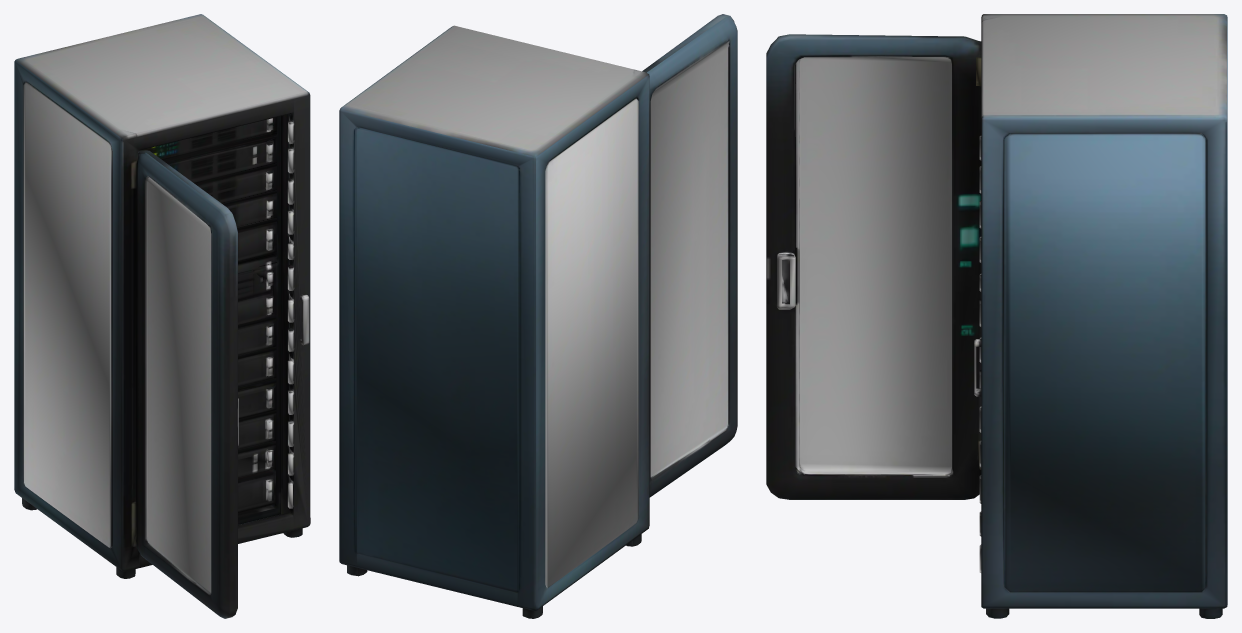
File: server_rack_03b09d1f_v4.glb
3 views of the same model, side by side, from view 1: azimuth 30°, elevation 25°; view 2: azimuth 150°, elevation 25°; view 3: azimuth 270°, elevation 25° (orthographic). The views are drawn at different scales.
Parts seen in each view (by area): view 1: material; view 2: material; view 3: material.
Part boxes in pixels (x1,y1,x2,y2): material: (14,14,310,618); material: (339,14,737,618); material: (766,14,1227,618).
Bounding box in the file's own units: 0.8416 × 1.9 × 1.58.
1 material, 1 textured.
